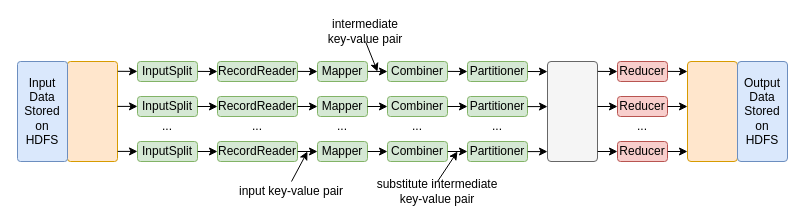
This 805x223 diagram has some shape labels left out. The box of each missing label's shape, as (x1, y1, x2, y2) in pixels:
Input Format: (66, 60, 118, 162)
Output Format: (686, 60, 738, 162)
Shuffling & Sorting: (546, 60, 598, 162)
